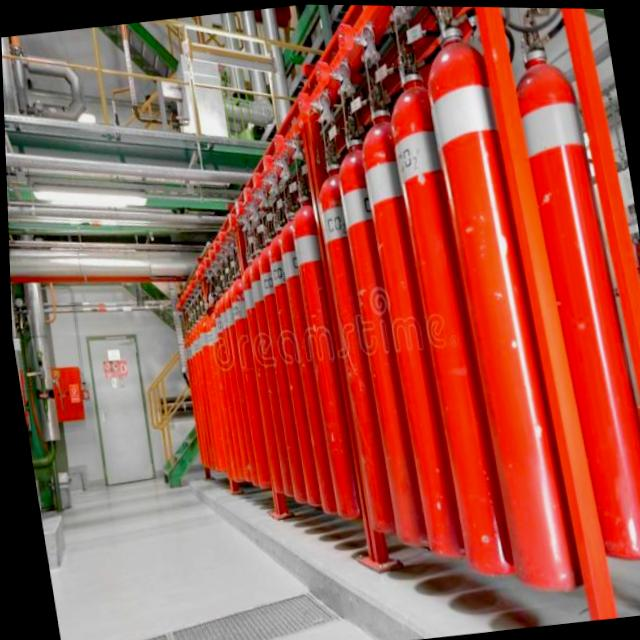FireExtinguisher: (414, 5, 596, 604), (371, 5, 534, 585), (491, 6, 640, 573), (342, 56, 484, 565), (319, 86, 443, 560), (303, 134, 419, 541), (273, 155, 380, 530)
